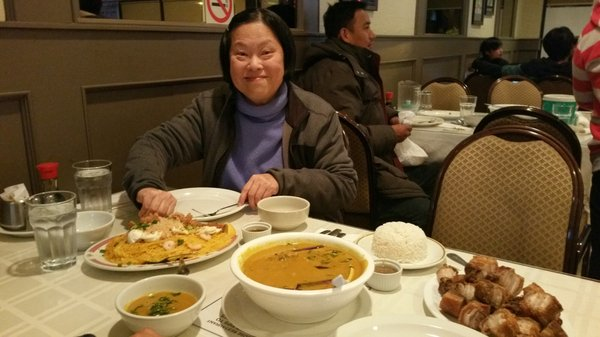pizza: (28, 190, 78, 271), (72, 158, 114, 212), (257, 195, 310, 231), (370, 259, 403, 292), (397, 79, 421, 115), (239, 221, 271, 245)
sushi: (230, 230, 374, 324), (114, 275, 204, 335), (257, 195, 310, 232)
